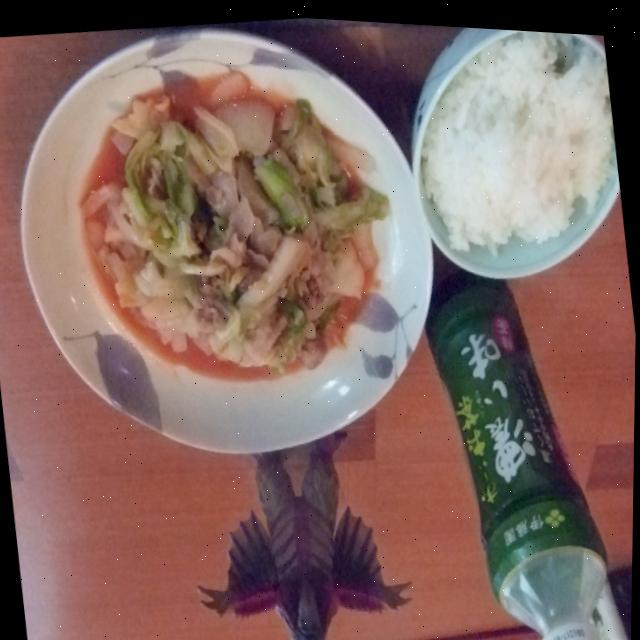蔬菜料理: (56, 49, 416, 418)
